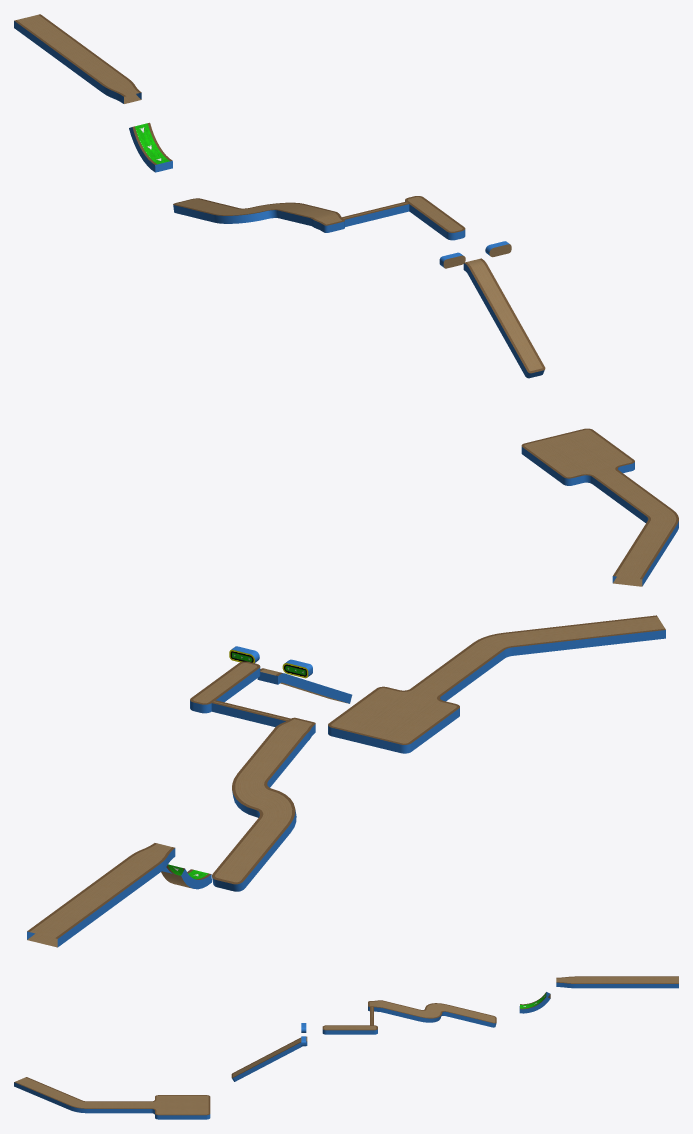
File: ramp_8.FBX
The picture shows the model from 3 angles, top to bottom: view 1: azimuth 30°, elevation 25°; view 2: azimuth 150°, elevation 25°; view 3: azimuth 270°, elevation 25°; orthographic projection. The views are drawn at different scales.
Parts seen in each view (by area): view 1: ramp_8; view 2: ramp_8; view 3: ramp_8.
Boxes of the visible parts, x1,y1,x2,y2 form: ramp_8: (14, 14, 678, 586); ramp_8: (27, 615, 665, 947); ramp_8: (14, 976, 678, 1119).
Size of the model in its own units: 1155 by 1030 by 6608.
